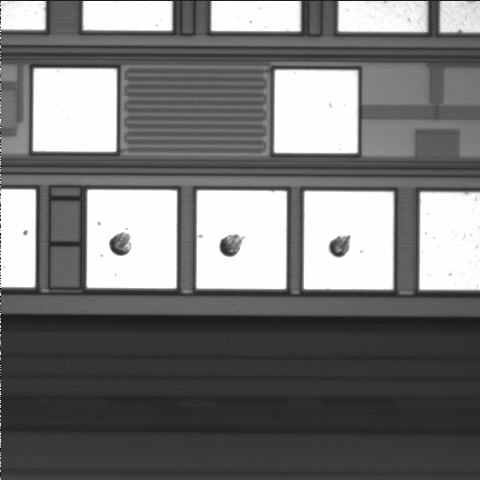pad: (196, 190, 287, 289), (304, 191, 394, 290), (87, 190, 177, 288), (33, 68, 117, 152), (274, 70, 358, 153)
